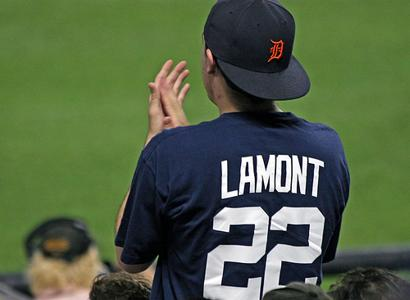person: (116, 2, 351, 298)
